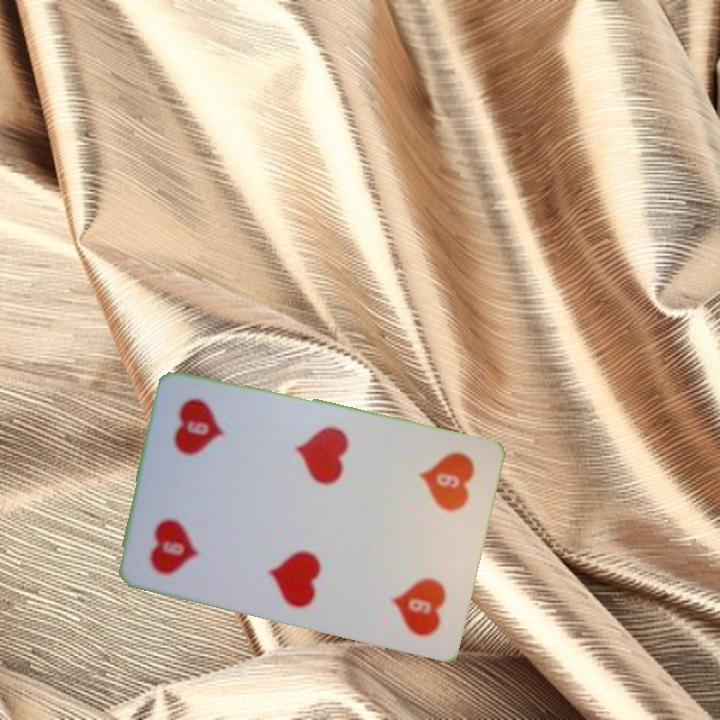h_6.png: (382, 437, 488, 553), (131, 474, 236, 590)
